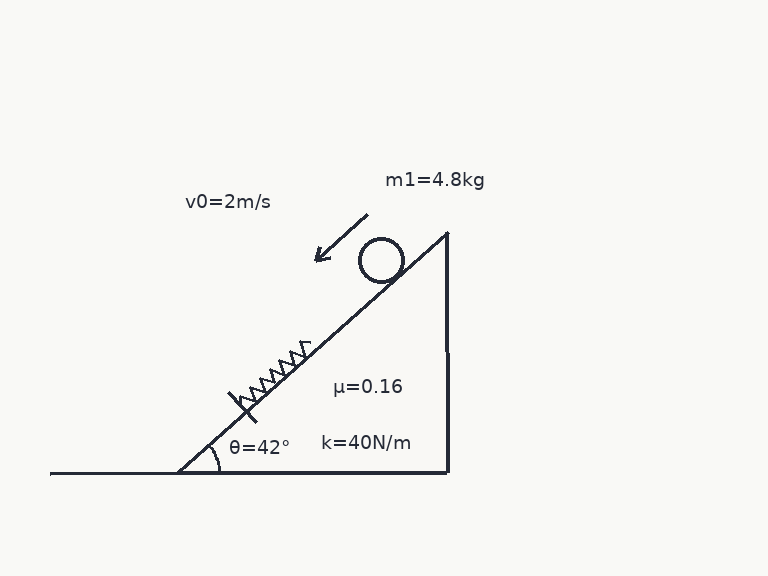ball: (356, 235, 406, 285)
ramp: (177, 229, 449, 474)
spring: (238, 340, 311, 407)
